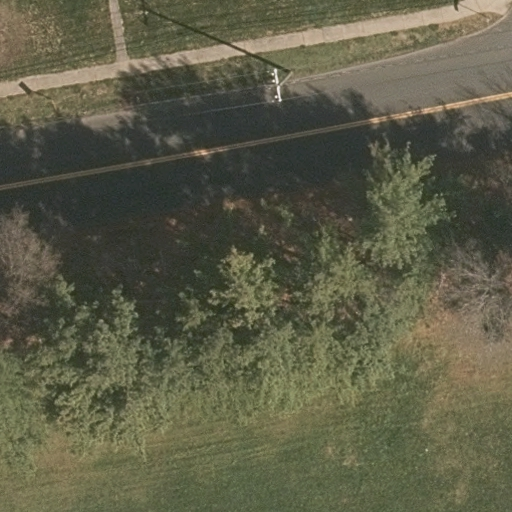DT: (259, 58, 298, 111)
